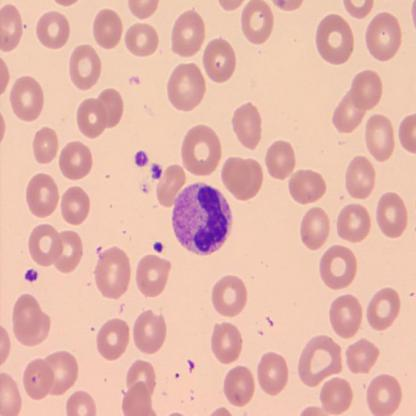Band Neutrophil: (170, 178, 233, 257)
